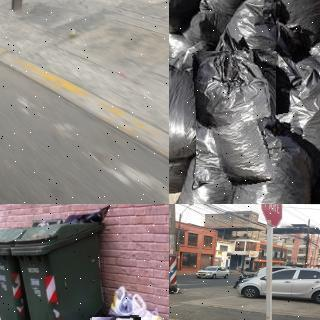Garbage: (194, 50, 278, 182), (218, 114, 318, 204), (212, 0, 307, 72), (272, 53, 320, 161), (169, 53, 204, 162), (263, 0, 320, 46), (169, 0, 206, 32), (131, 307, 169, 320), (169, 283, 177, 292)
